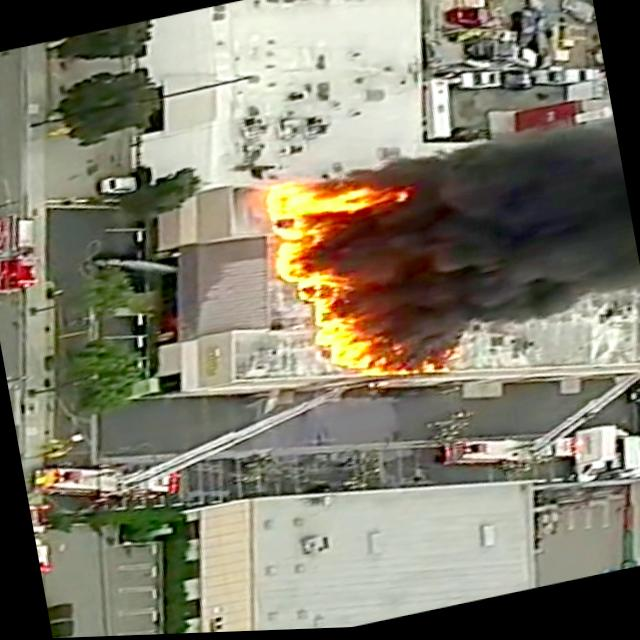fire: (247, 155, 408, 240)
smoke: (380, 106, 640, 343)
